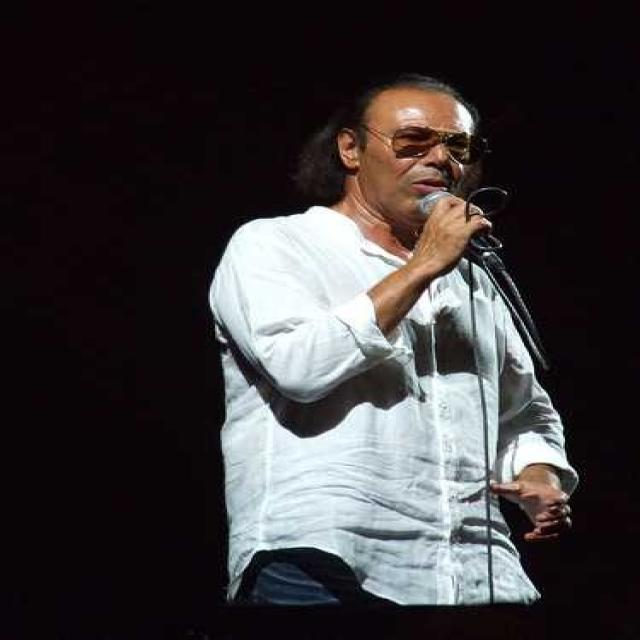microphone: (410, 187, 501, 256)
